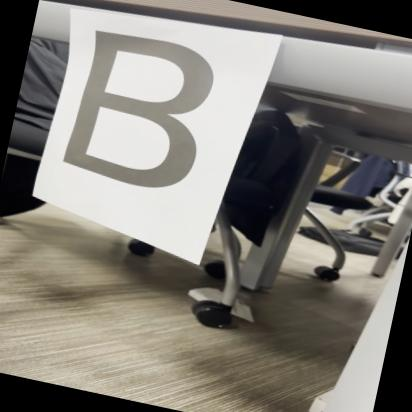seat: (52, 14, 241, 213)
